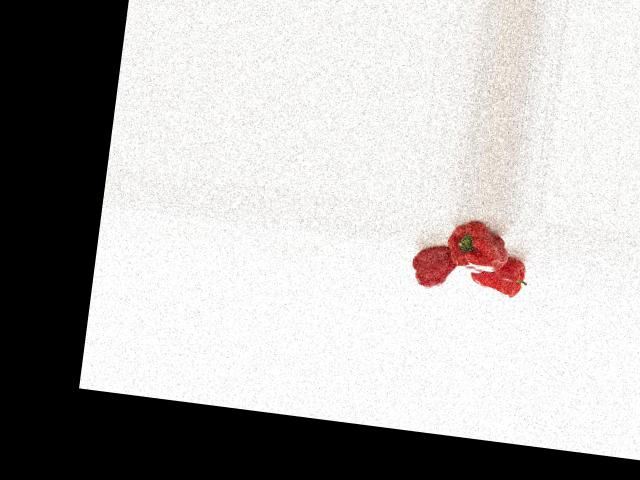bell_pepper: (406, 240, 456, 291)
